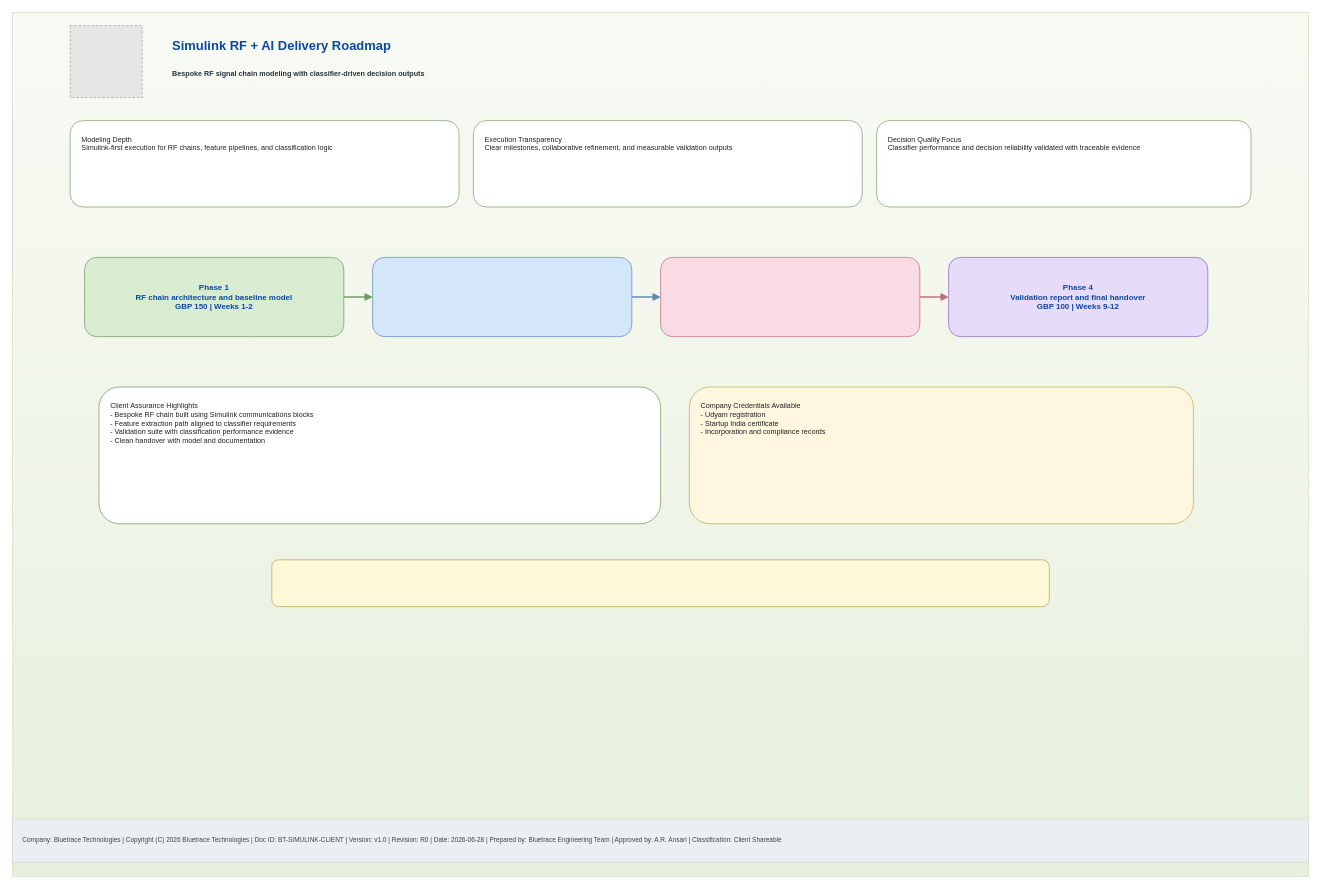
The diagram is 1321 pixels wide and 889 high, and some of its shapes have lost their labels. Grey dashed boxes stand in for pictures. The shapes that lost their labels are listed below. From the top down, each one's box as (x1, y1, x2, y2) in pixels, then its label:
(372, 257, 632, 337): Phase 2 Signal processing and feature extraction stages GBP 180 | Weeks 3-5
(660, 257, 920, 337): Phase 3 AI classifier integration and decision tuning GBP 170 | Weeks 6-8
(271, 559, 1049, 607): Estimated Overall Timeline: 1 to 3 months
